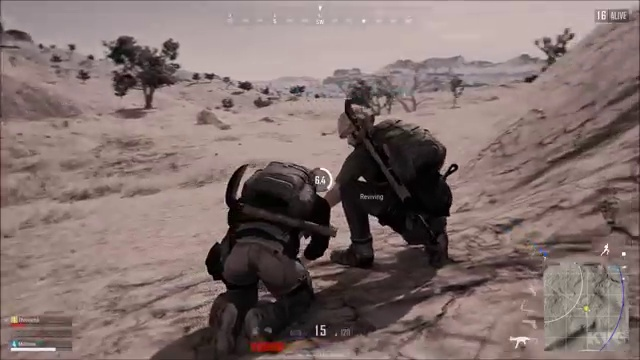Player: (329, 98, 464, 264), (190, 143, 323, 290)
